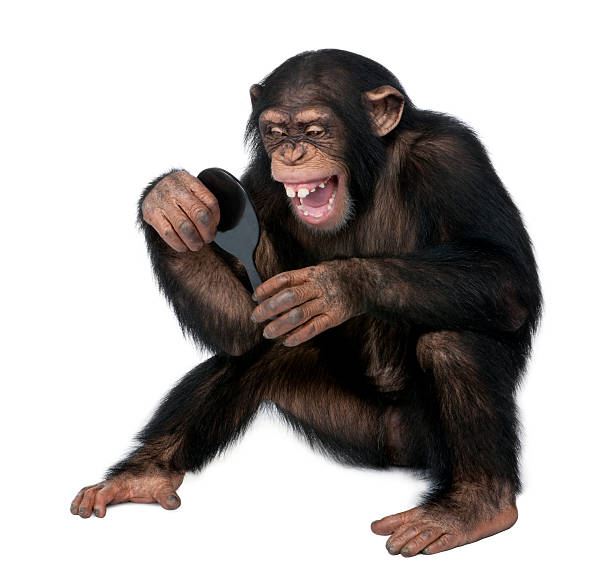chimpanzee: (228, 38, 431, 253)
